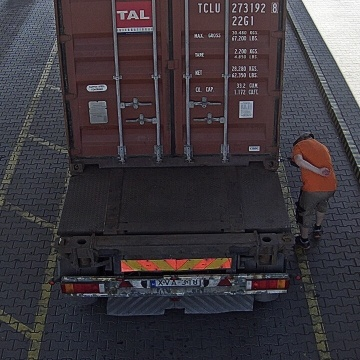serial_id: (198, 2, 278, 12)
